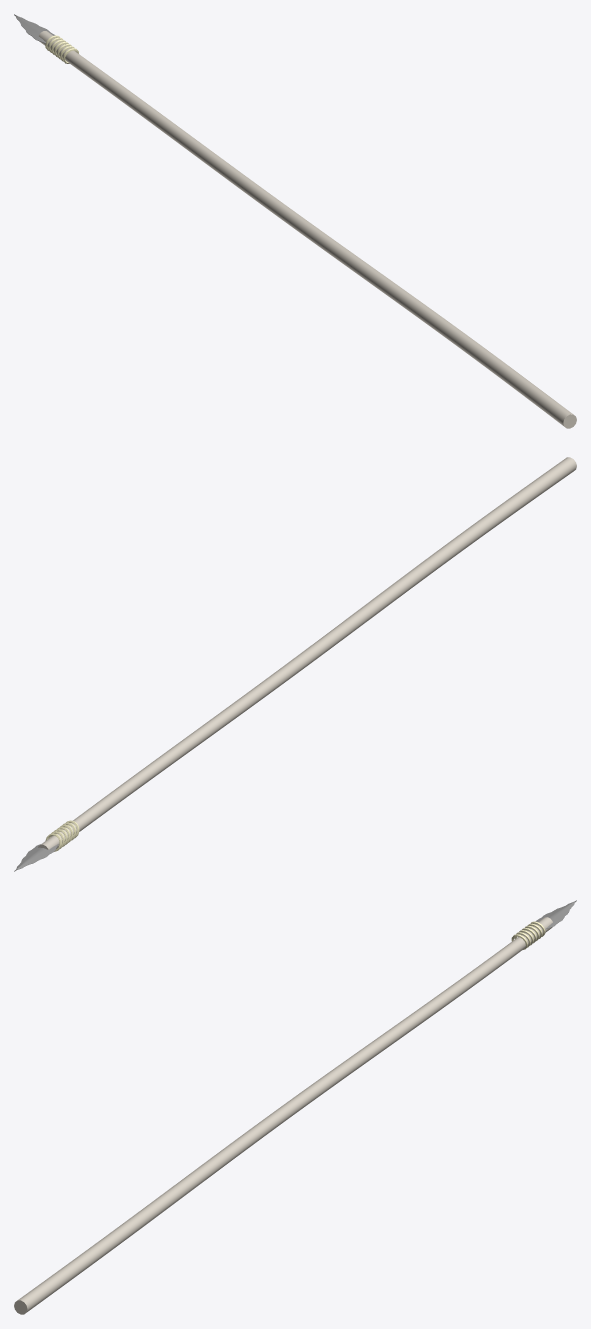
Rendered from spear.glb.
3 views of the same model, one above another, from view 1: azimuth 30°, elevation 25°; view 2: azimuth 150°, elevation 25°; view 3: azimuth 330°, elevation 25° (orthographic).
Parts seen in each view (by area): view 1: spear; view 2: spear; view 3: spear.
Boxes of the visible parts, bbox=[...] form: spear: bbox=[14, 14, 576, 428]; spear: bbox=[14, 457, 576, 871]; spear: bbox=[14, 900, 576, 1314].
Size of the model in its own units: 0.04 by 0.0326 by 2.01.
